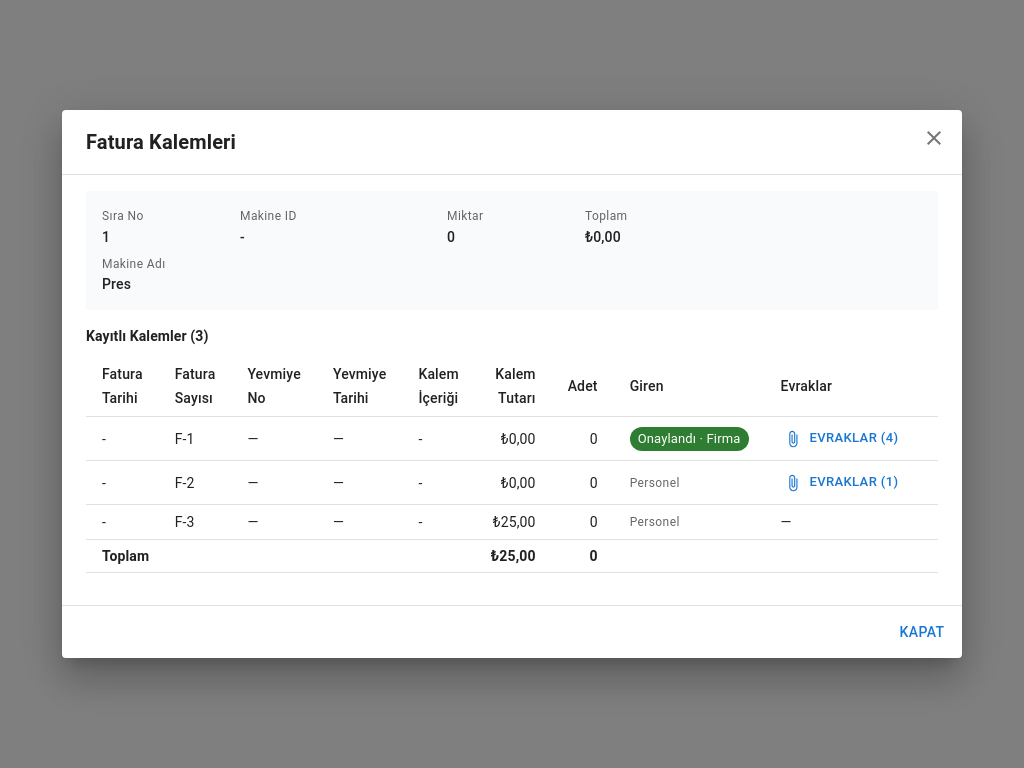
Test: salt okunur yerli fatura kaleminin birden çok evrakı türüne göre görünür
Click the cell "F-1": (195, 439) [159,417,231,461]
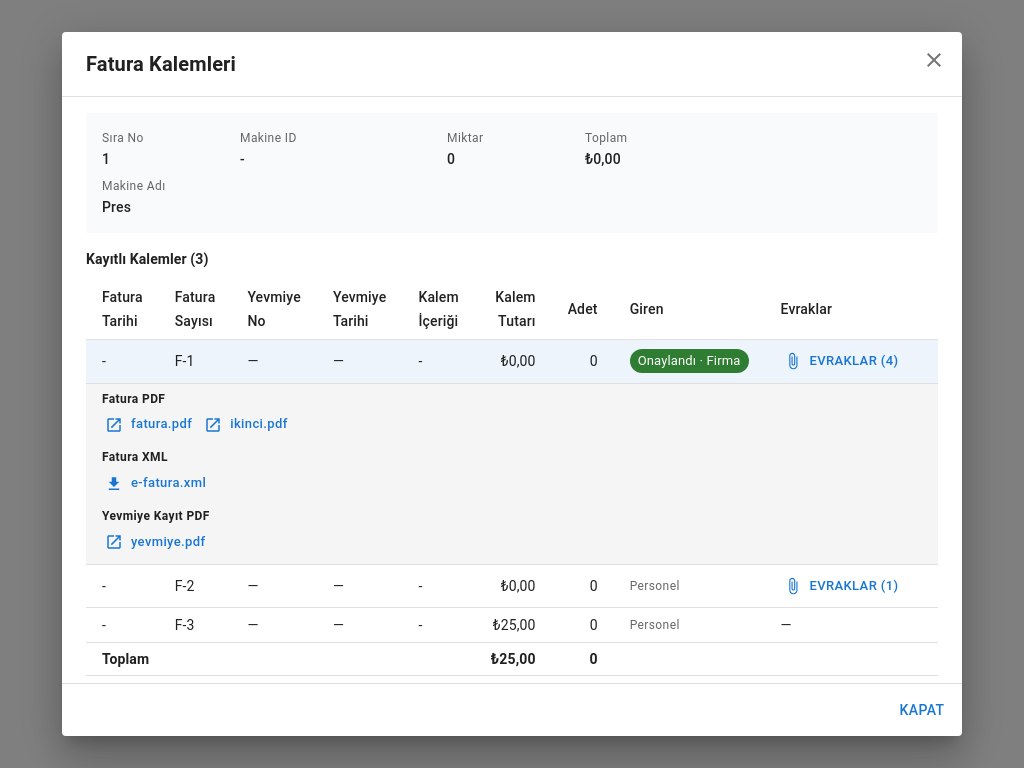
Expected: the text "Fatura PDF" is shown, [102,392,165,406]
Expected: the text "Fatura XML" is shown, [102,450,168,464]
Expected: the text "Yevmiye Kayıt PDF" is shown, [102,509,210,523]
Click the button with aria-label "F-2 evrakları": (842, 586) [780,570,903,601]
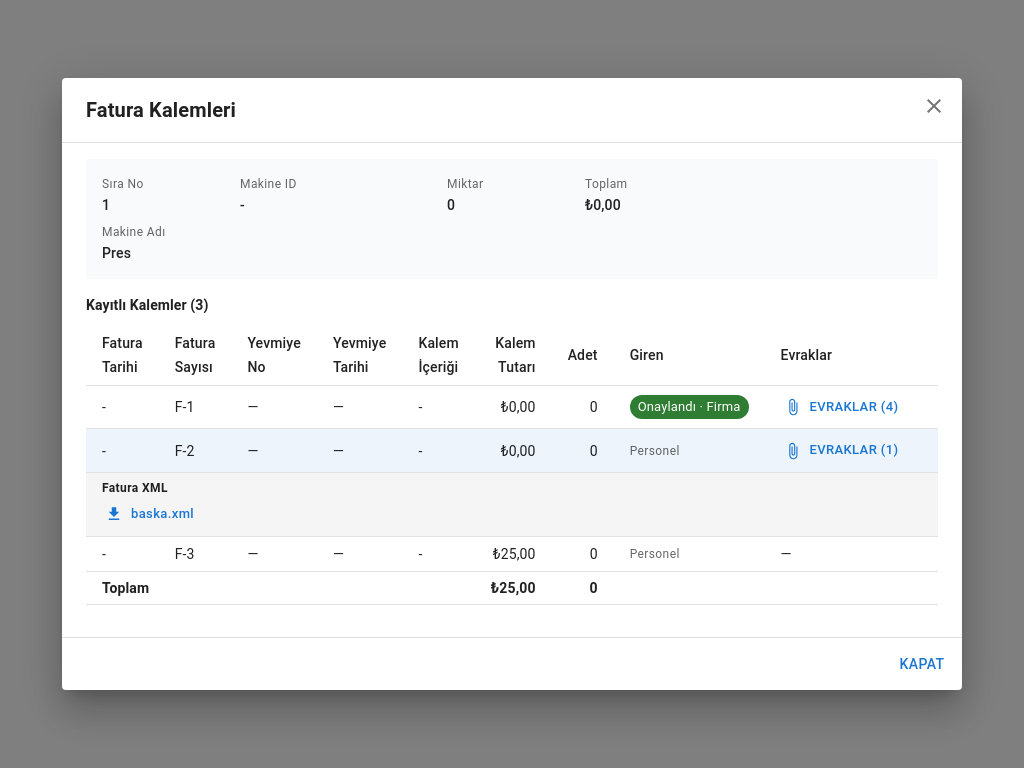
Expected: the button with aria-label "baska.xml indir" is shown, [102,499,199,530]
